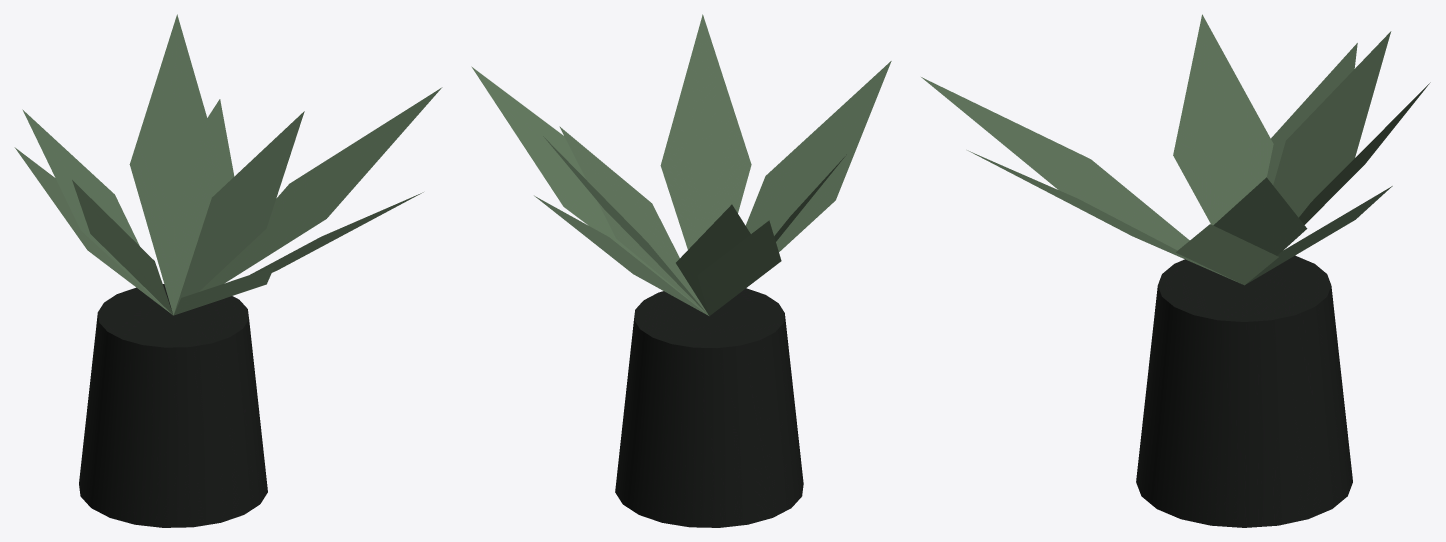
File: fur_plant_big.glb
The picture shows the model from 3 angles, left to right: view 1: azimuth 30°, elevation 25°; view 2: azimuth 150°, elevation 25°; view 3: azimuth 270°, elevation 25°; orthographic projection. The views are drawn at different scales.
Visible parts, largest first — view 1: FUR_plant_big; view 2: FUR_plant_big; view 3: FUR_plant_big.
Part boxes in pixels (<box>): FUR_plant_big: <box>14,14,442,527</box>; FUR_plant_big: <box>471,14,891,527</box>; FUR_plant_big: <box>921,14,1430,527</box>.
Size of the model in its own units: 1.36 by 1.37 by 1.41.
Materials: 1 (1 with a texture image).
